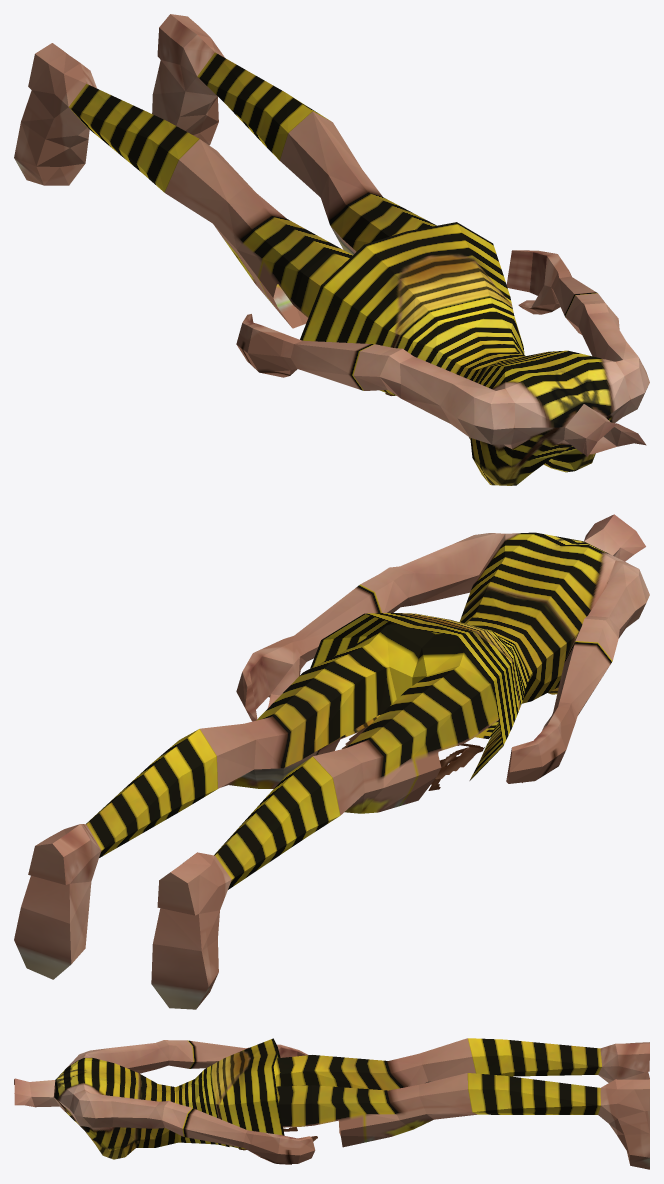
Rendered from common_dress_female_85217.obj.
3 renders of one model, top to bottom at view 1: azimuth 30°, elevation 25°; view 2: azimuth 150°, elevation 25°; view 3: azimuth 270°, elevation 25°, orthographic. The views are drawn at different scales.
Parts seen in each view (by area): view 1: common_dress_female_85217; view 2: common_dress_female_85217; view 3: common_dress_female_85217.
Part boxes in pixels (left/top/right/bottom): common_dress_female_85217: left=14, top=14, right=649, bottom=485; common_dress_female_85217: left=14, top=514, right=649, bottom=1009; common_dress_female_85217: left=14, top=1038, right=649, bottom=1169.
Bounding box in the file's own units: 28.62 × 13.08 × 78.61.
2 materials, 2 textured.
